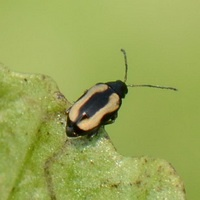insect: (66, 49, 127, 136)
